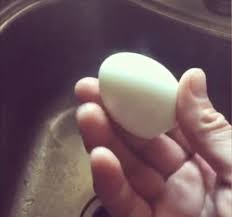egg: (98, 52, 179, 137)
